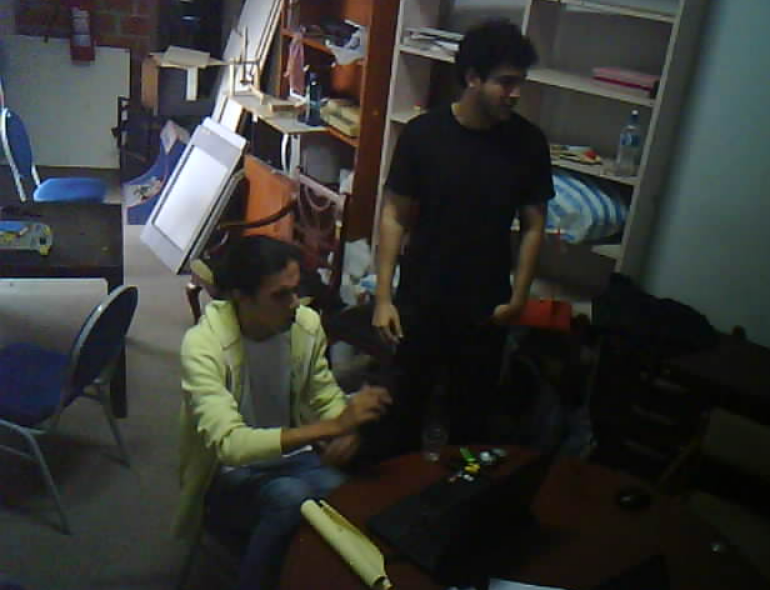person: (361, 17, 571, 465), (170, 235, 417, 590)
